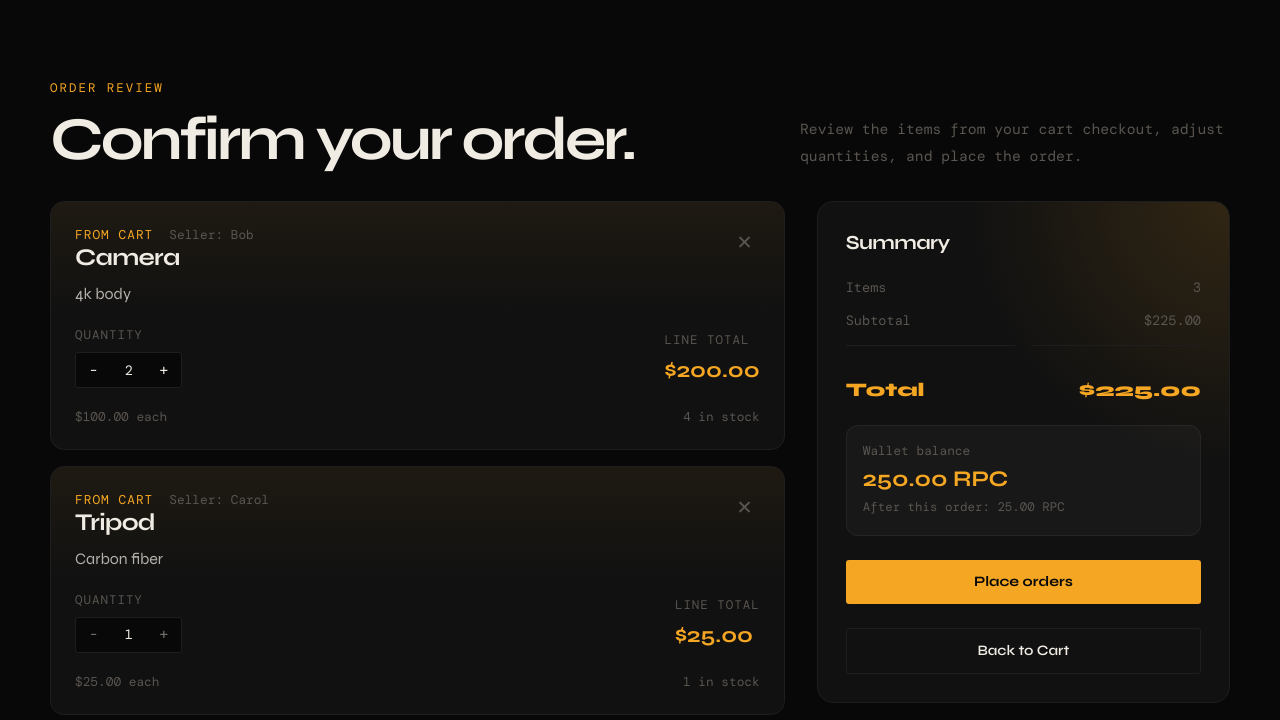
OrderPage › submits cart checkout as one batched order and clears cart items after success
Click the button "Place orders" at (1023, 582), box [846, 560, 1201, 604]
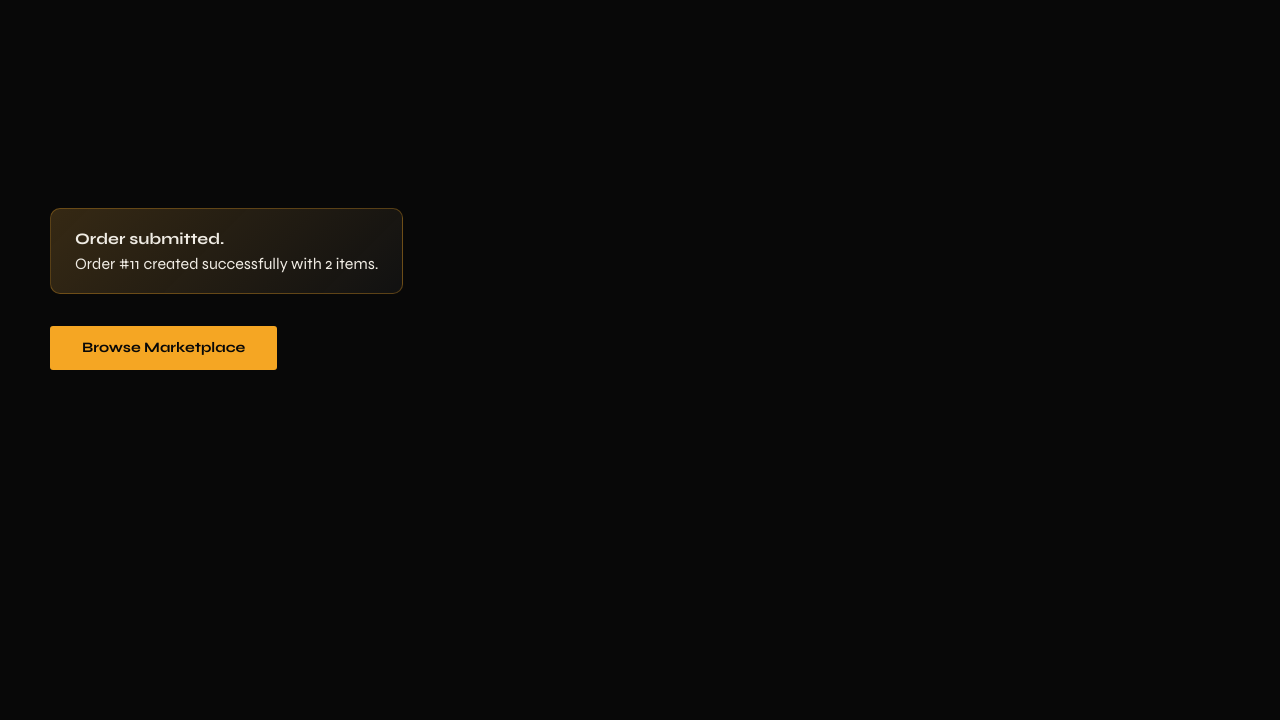
Result: the heading "Order submitted." is shown at [75, 229, 224, 248]
